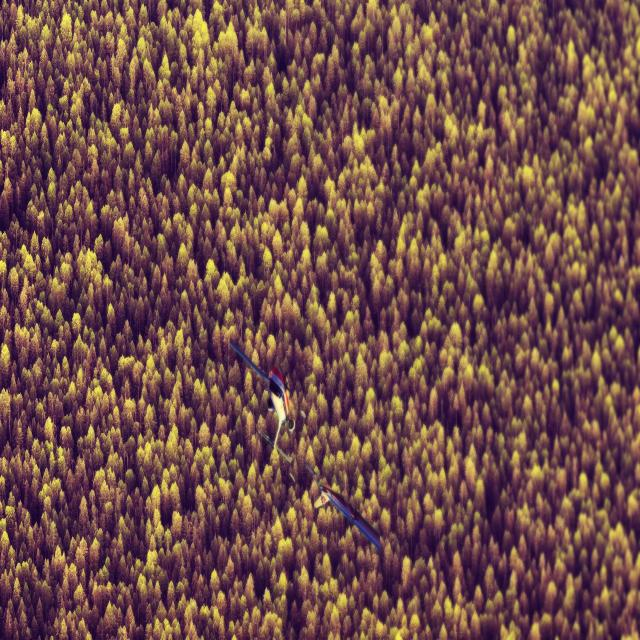airplane: (229, 341, 295, 464), (308, 462, 380, 548)
